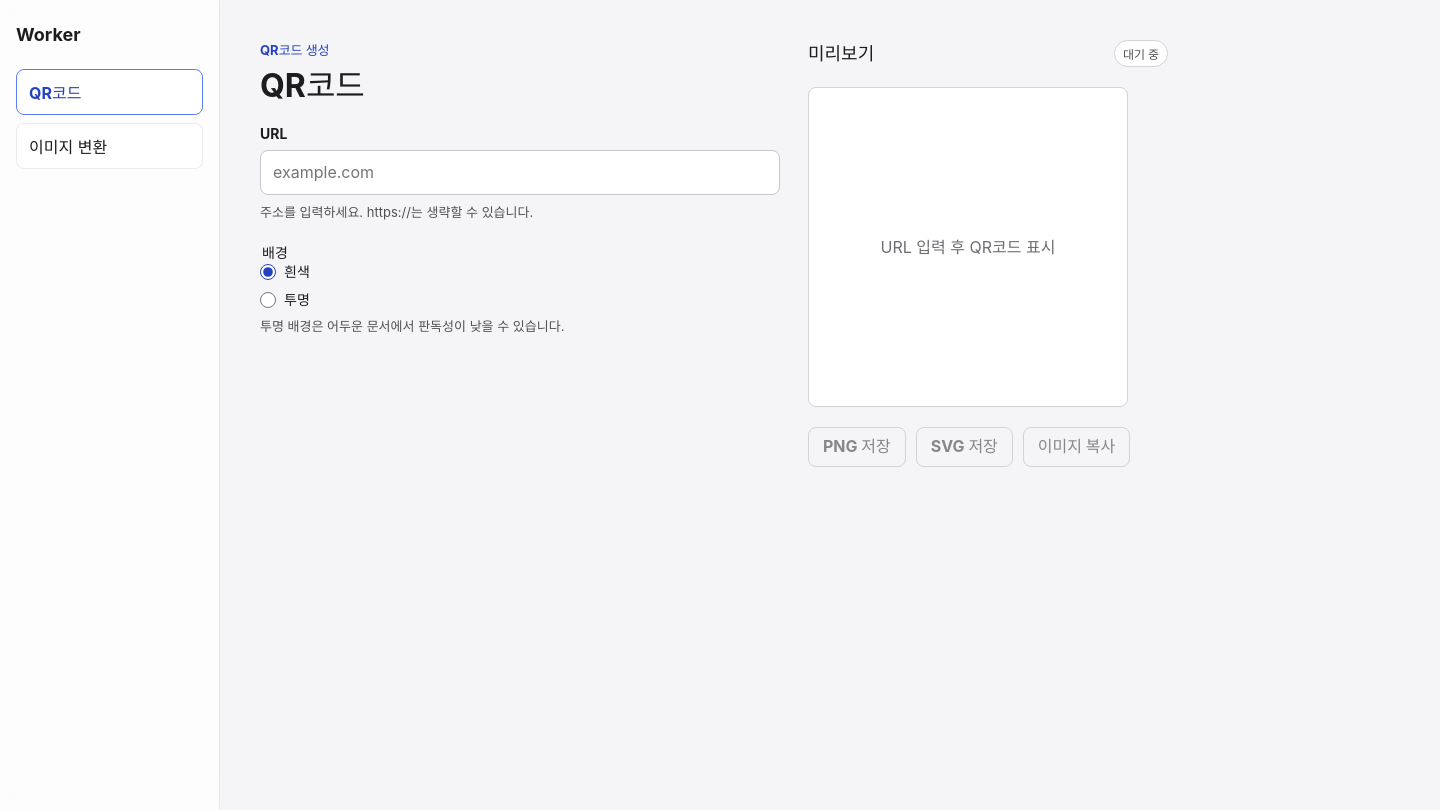
Test: App › shows a validation error for unsupported URL input
Type "not-a-url" into the field labelled "URL" at (520, 173), box [260, 150, 780, 195]
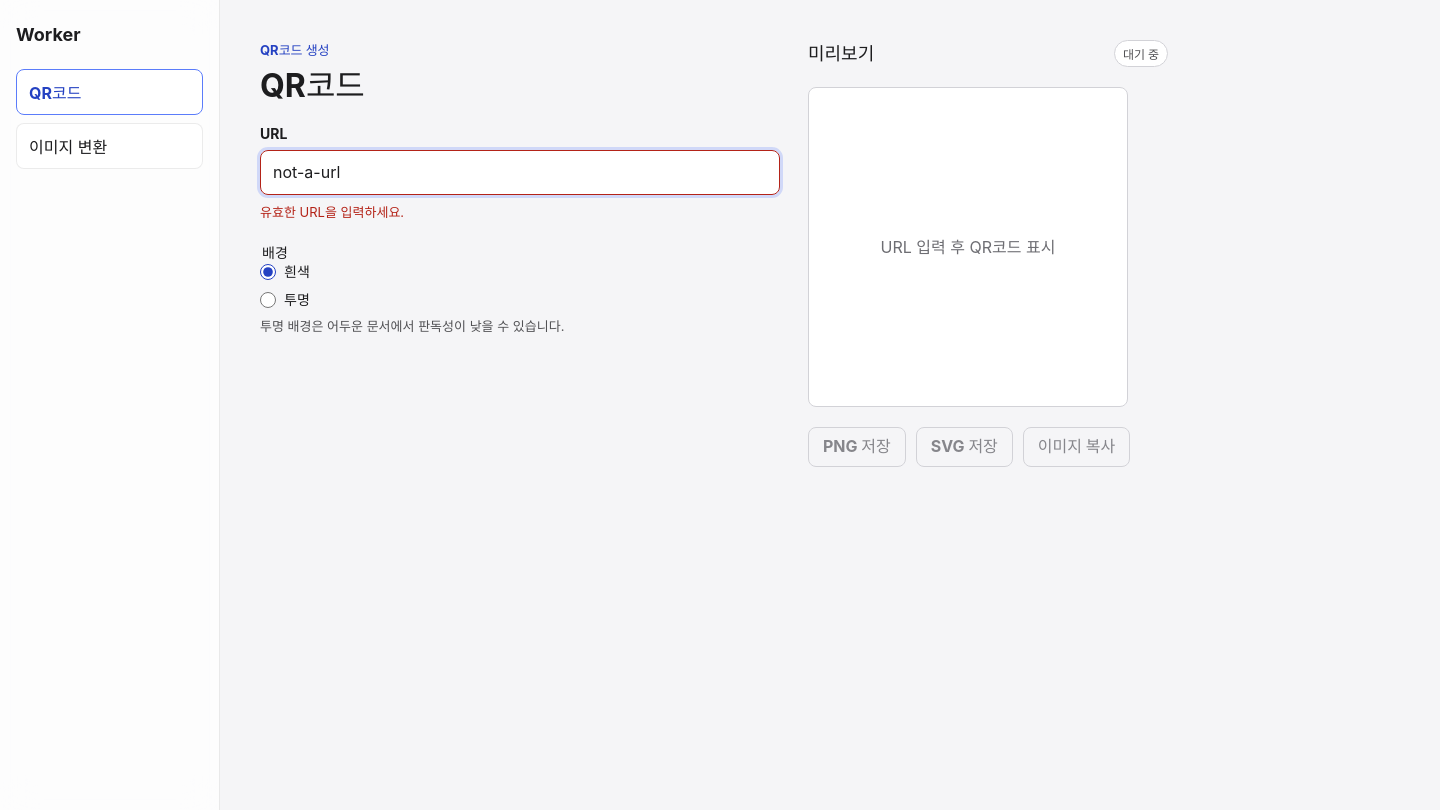
Check: the message reads "유효한 URL을 입력하세요.", box [260, 204, 404, 220]
